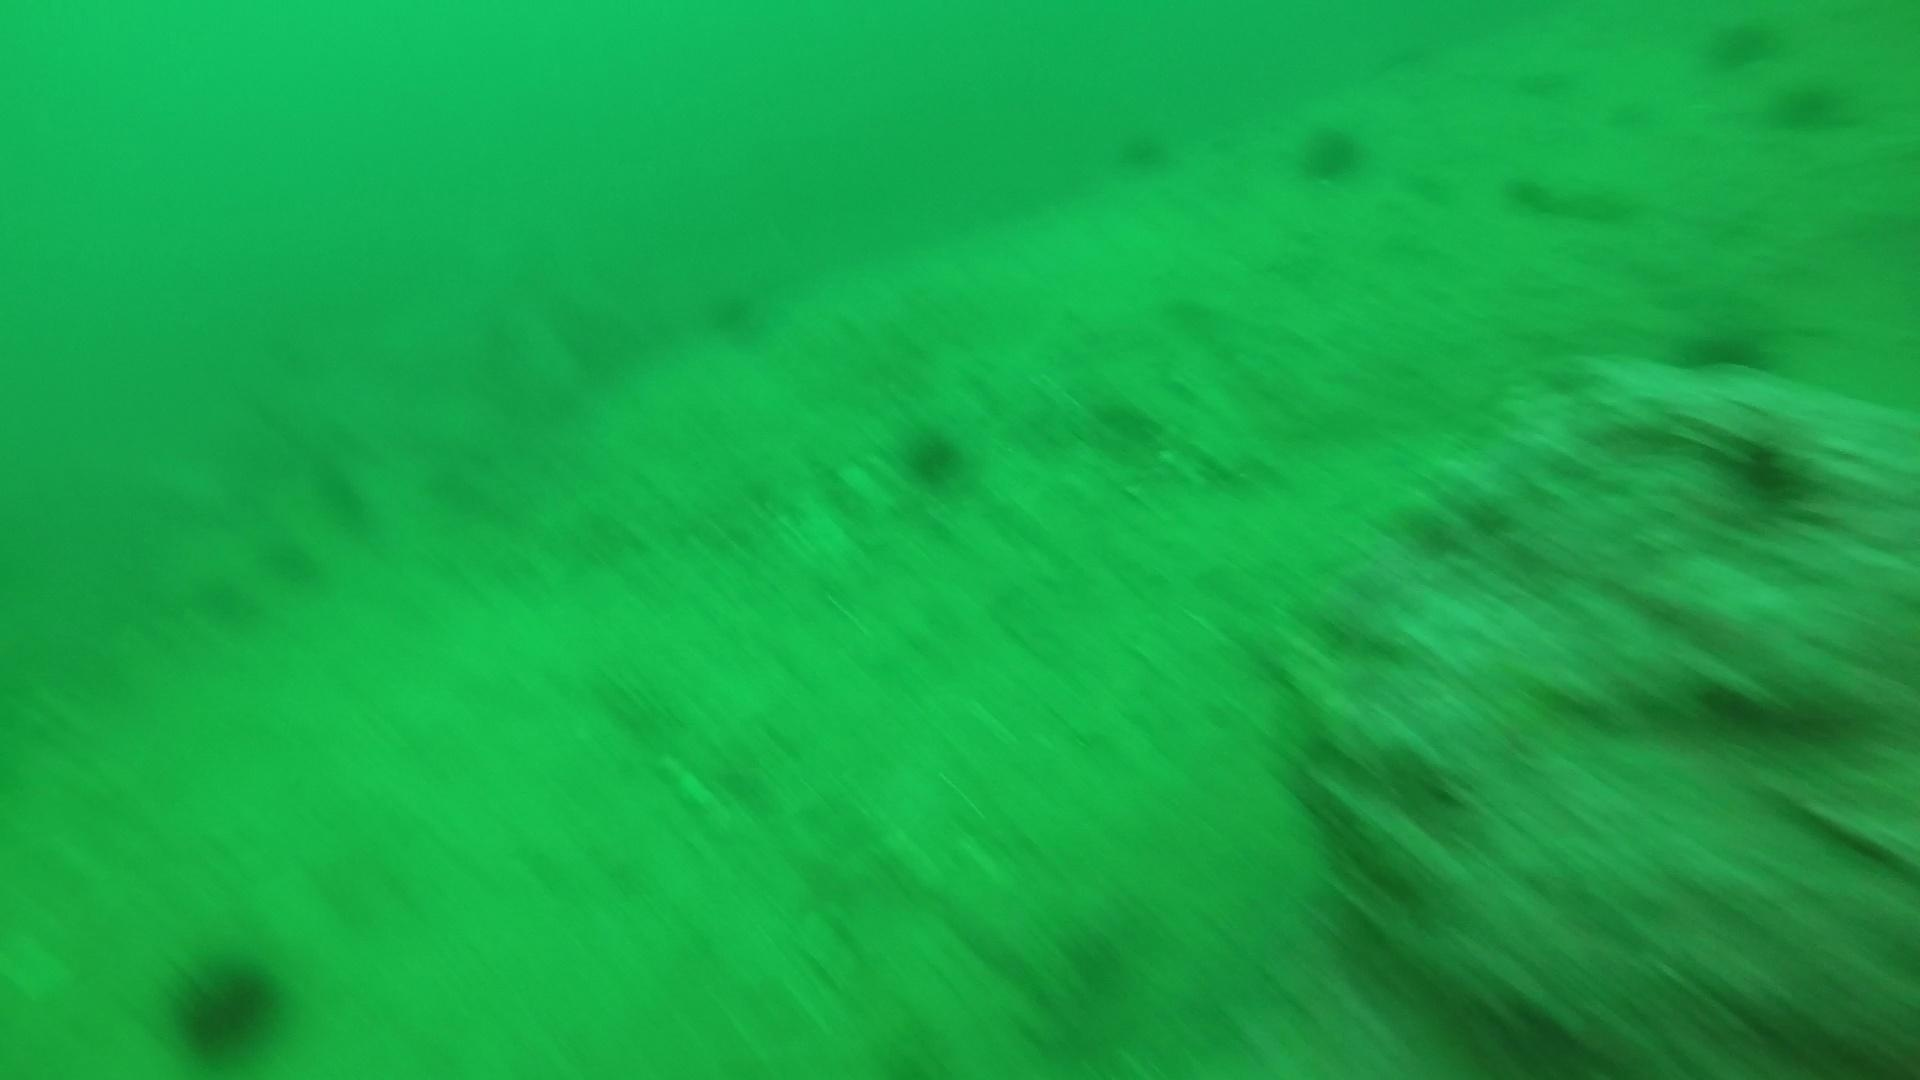echinus: (162, 944, 291, 1062), (1716, 430, 1822, 513), (1671, 313, 1778, 380), (1764, 71, 1855, 137), (895, 418, 973, 491), (1698, 12, 1785, 75), (1294, 117, 1370, 186), (702, 280, 773, 345), (258, 529, 327, 592), (183, 576, 252, 640), (309, 471, 377, 534), (1110, 119, 1178, 177)
